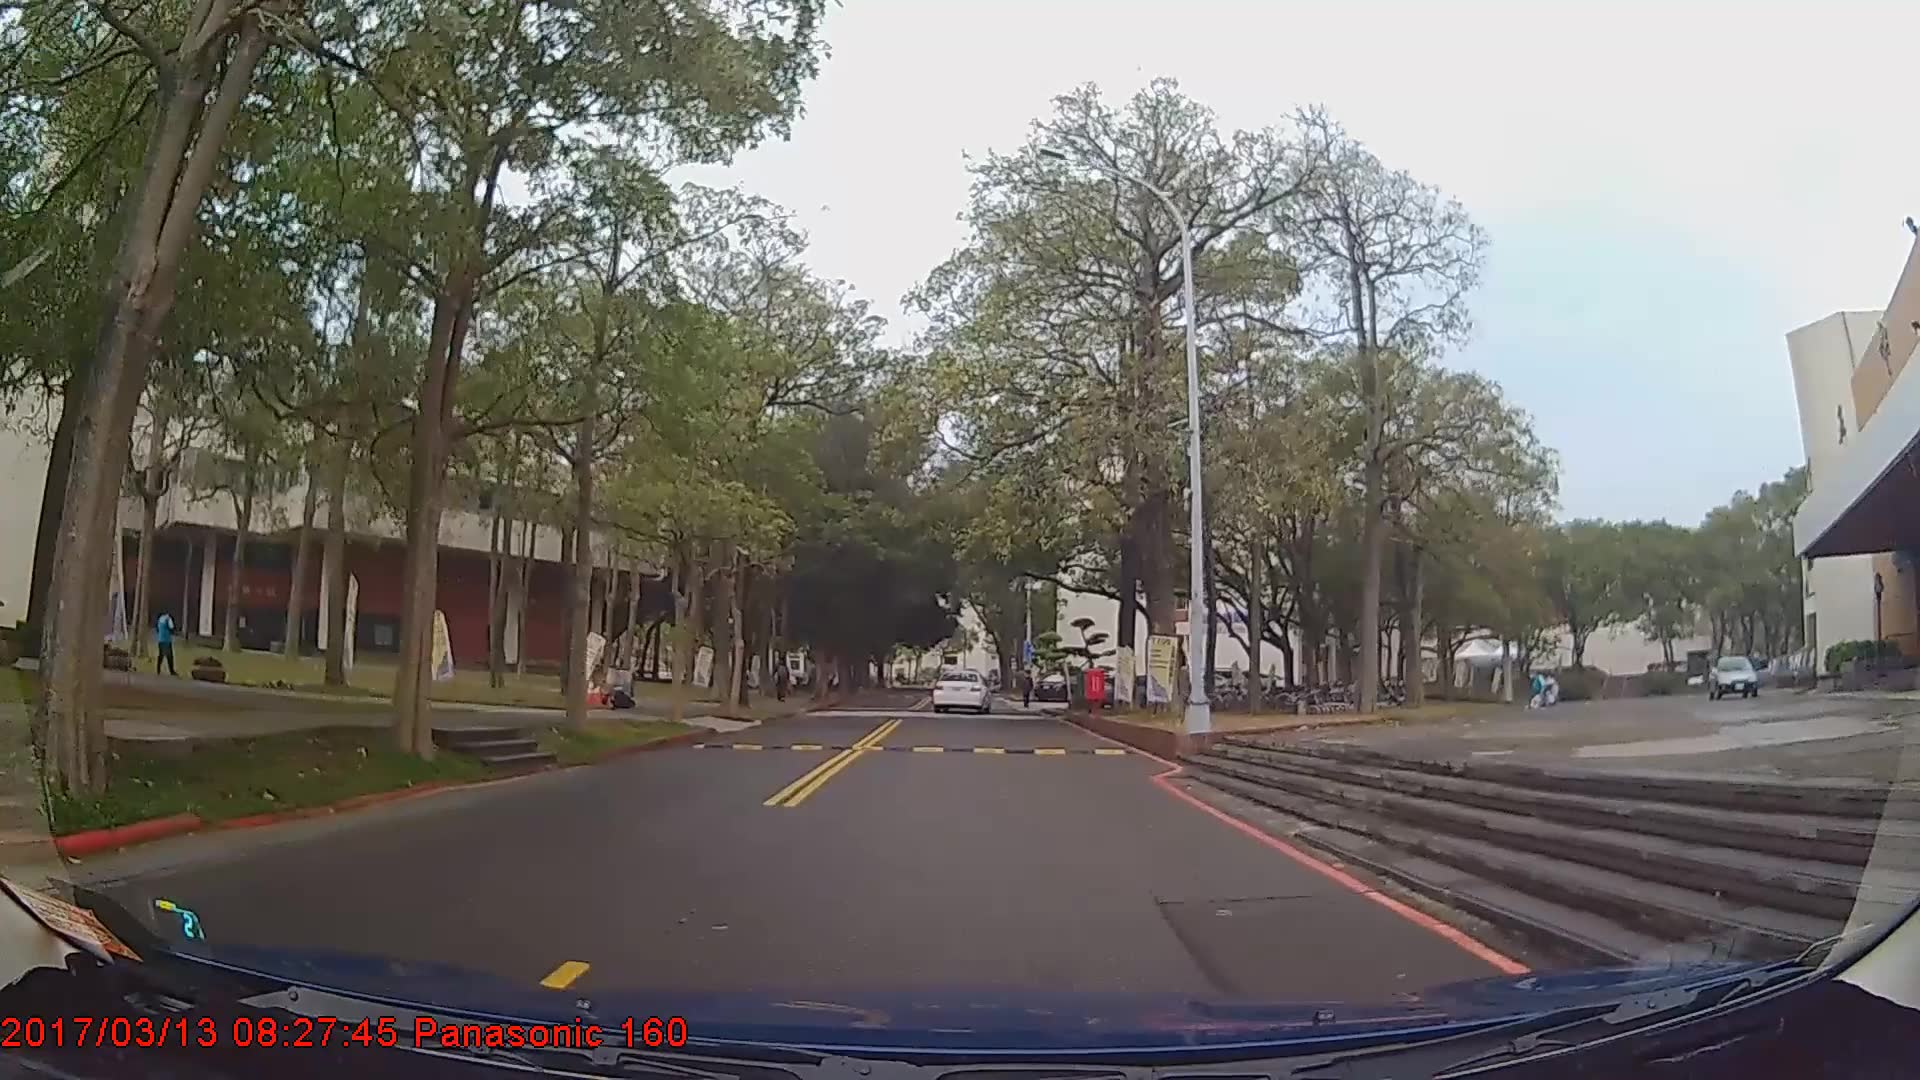pedestrian: (157, 605, 178, 679)
vehicle: (1704, 651, 1774, 700), (931, 669, 992, 714)
